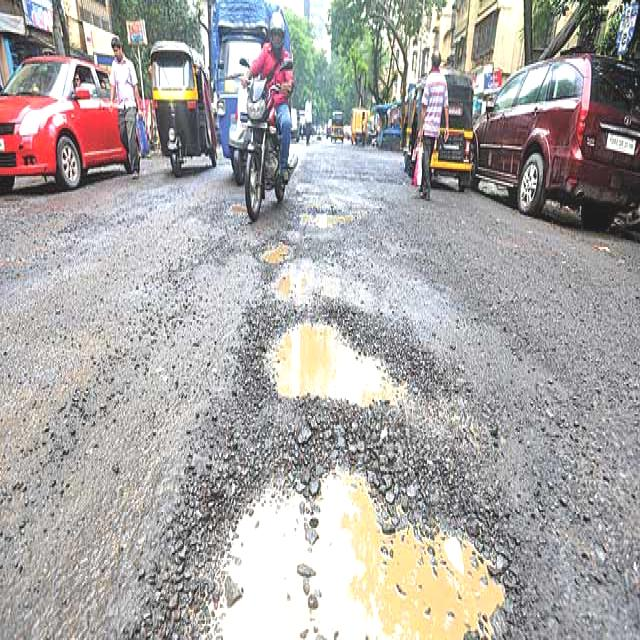bad-road: (178, 434, 511, 640), (261, 316, 410, 406), (272, 266, 336, 298), (251, 231, 291, 269), (298, 206, 364, 228), (230, 199, 247, 219)
